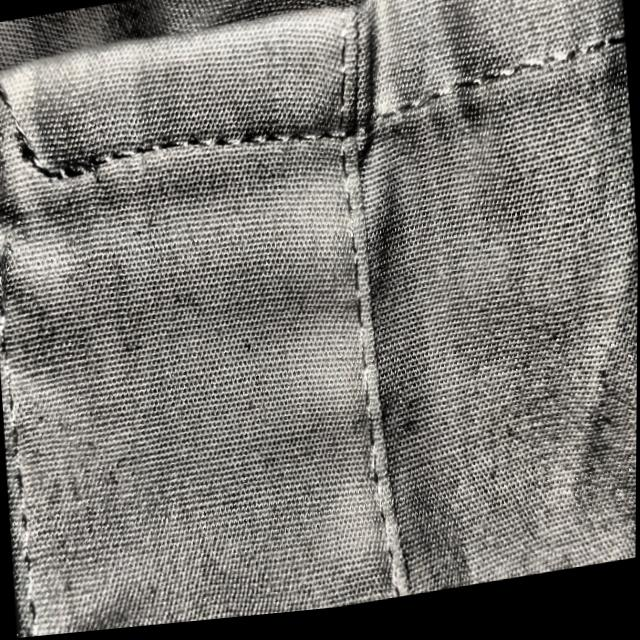Stitch: (0, 13, 61, 231)
